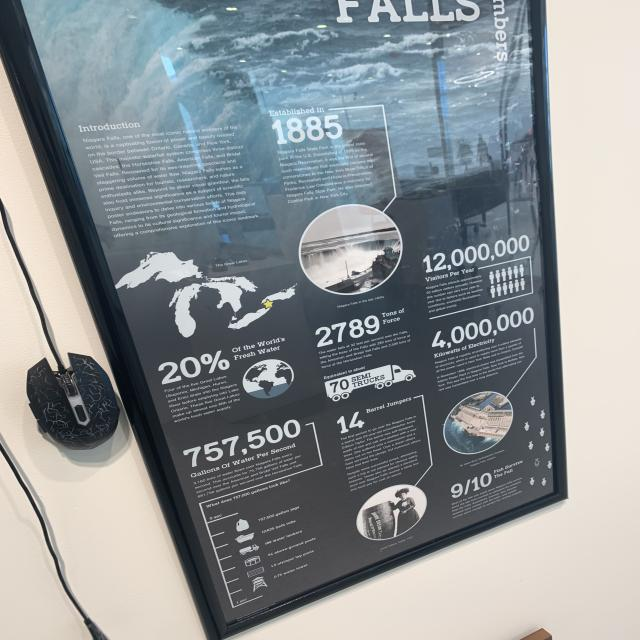Mouse: (21, 344, 136, 468)
